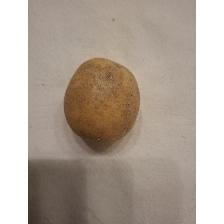Kartoffel: (61, 54, 143, 144)
